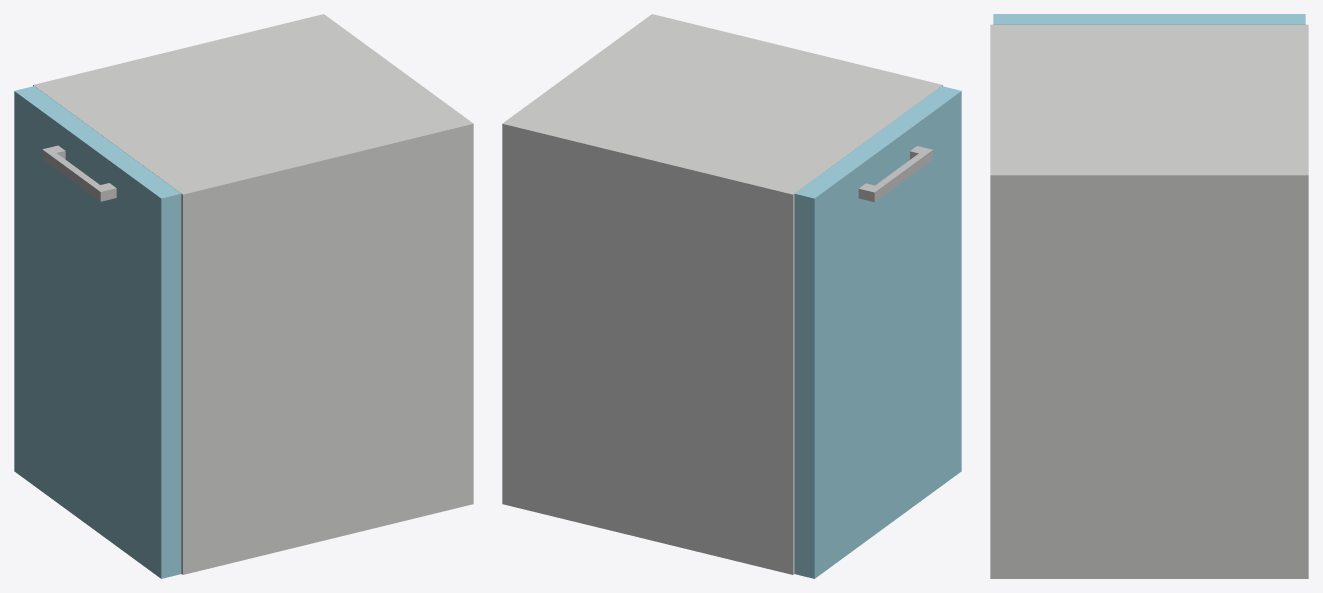
The model's file is Counter_UpHinge.fbx.
3 views of the same model, side by side, from view 1: azimuth 30°, elevation 25°; view 2: azimuth 150°, elevation 25°; view 3: azimuth 270°, elevation 25° (orthographic). The views are drawn at different scales.
Parts seen in each view (by area): view 1: CounterType2, CounterType2DOOR, CounterType2Handle.; view 2: CounterType2, CounterType2DOOR, CounterType2Handle.; view 3: CounterType2, CounterType2DOOR.
Part boxes in pixels (x1,y1,x2,y2): CounterType2: (33, 14, 473, 574); CounterType2DOOR: (14, 86, 181, 578); CounterType2Handle.: (42, 145, 116, 201); CounterType2: (502, 14, 942, 574); CounterType2DOOR: (794, 86, 961, 578); CounterType2Handle.: (858, 146, 932, 202); CounterType2: (990, 24, 1308, 578); CounterType2DOOR: (993, 14, 1305, 24).
Bounding box in the file's own units: 62.97 × 70 × 50.
